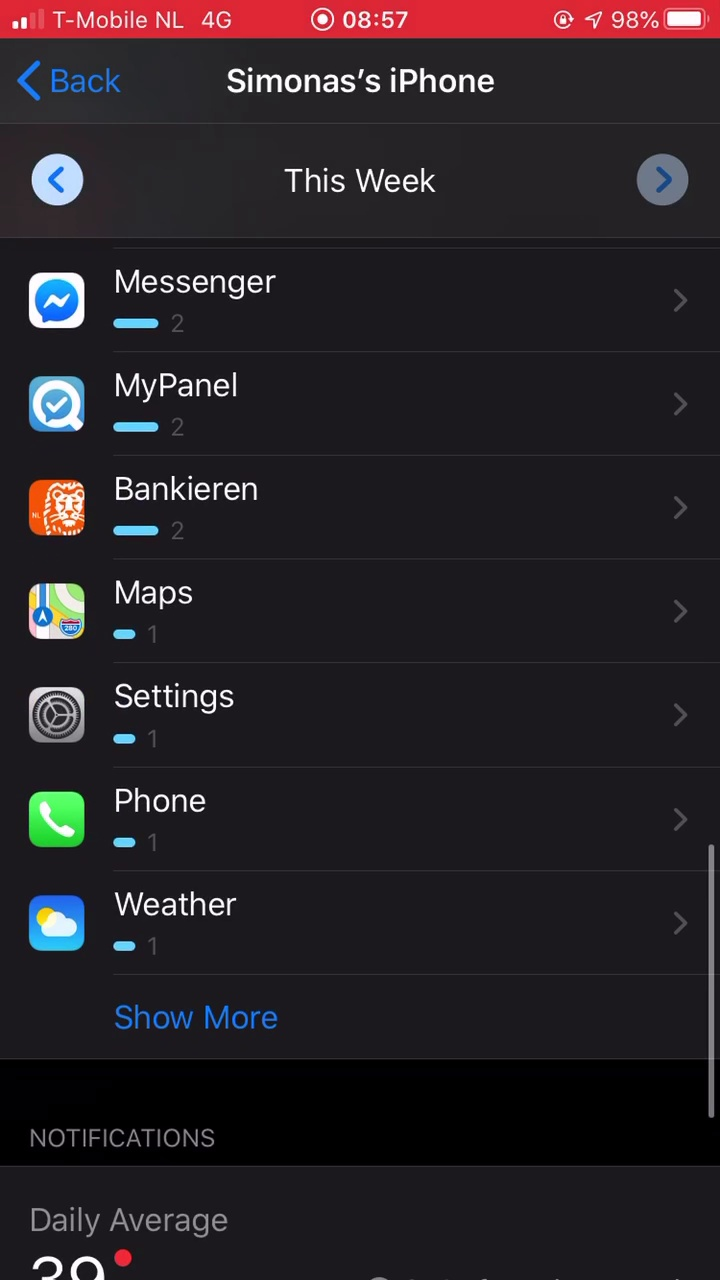pick_app: (14, 244, 287, 350), (15, 363, 285, 463), (15, 467, 311, 555), (17, 665, 262, 771), (23, 873, 268, 972), (17, 563, 254, 663), (20, 781, 236, 869)
week: (275, 156, 444, 209)
